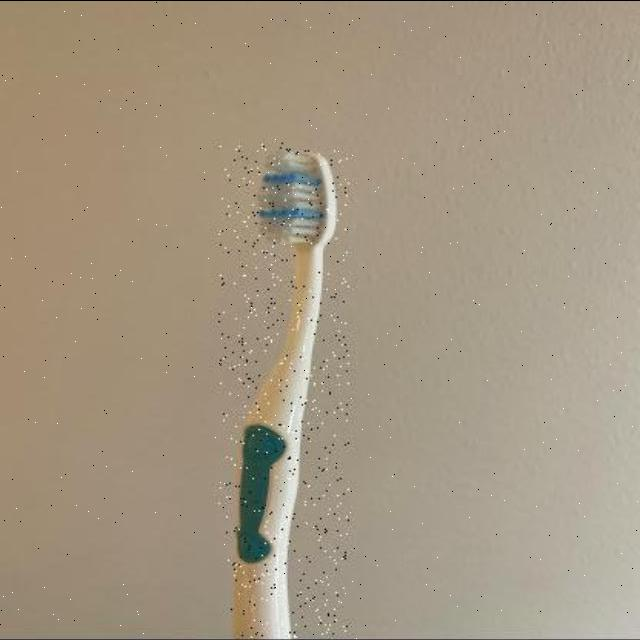toothbrush: (219, 144, 349, 640)
